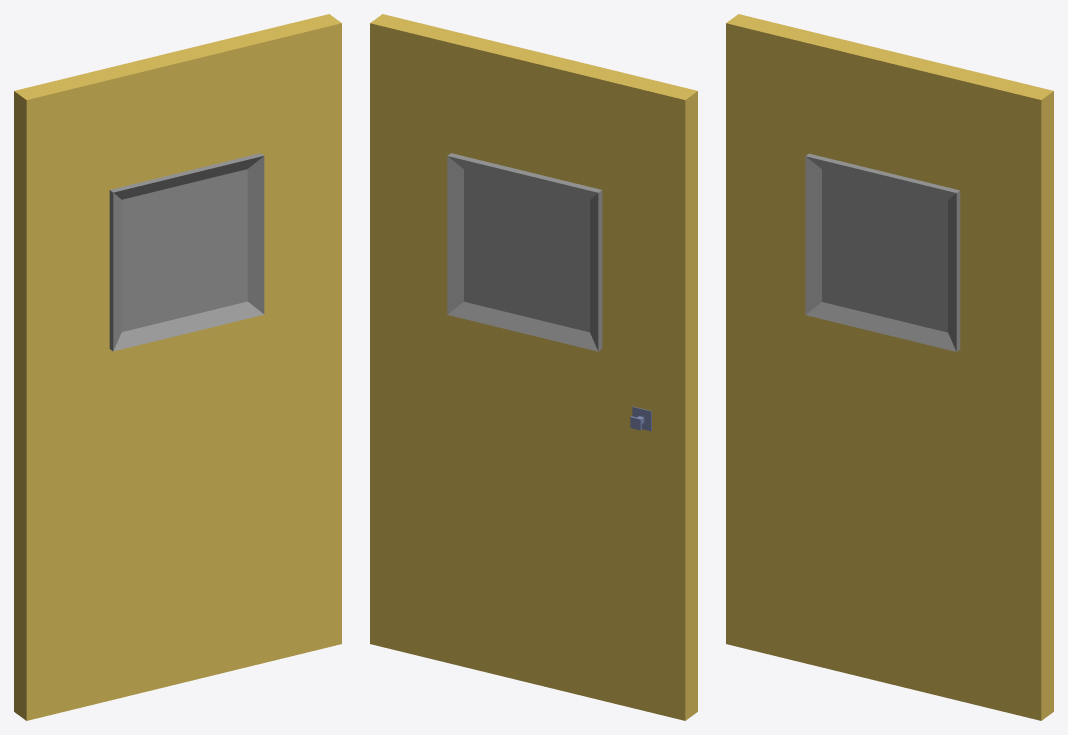
The model's file is Puertas.fbx.
3 views of the same model, side by side, from view 1: azimuth 30°, elevation 25°; view 2: azimuth 150°, elevation 25°; view 3: azimuth 330°, elevation 25° (orthographic).
Parts seen in each view (by area): view 1: Puerta de nivel, Ventana de puerta; view 2: Puerta de nivel, Ventana de puerta; view 3: Puerta de nivel, Ventana de puerta.
Part boxes in pixels (left/top/right/bottom): Puerta de nivel: left=14, top=14, right=341, bottom=720; Ventana de puerta: left=109, top=153, right=264, bottom=351; Puerta de nivel: left=370, top=14, right=697, bottom=720; Ventana de puerta: left=447, top=153, right=602, bottom=351; Puerta de nivel: left=726, top=14, right=1053, bottom=720; Ventana de puerta: left=805, top=153, right=960, bottom=351.
Bounding box in the file's own units: 771 × 1450 × 97.44.
